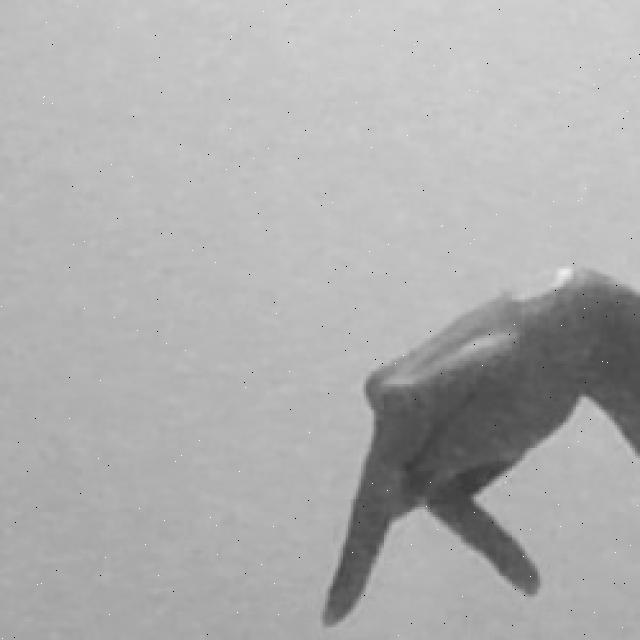P: (316, 261, 640, 630)
